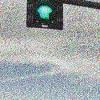traffic lights: (26, 0, 65, 31)
